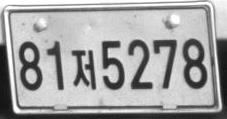1: (44, 40, 69, 90)
2: (127, 38, 153, 91)
5: (100, 39, 125, 91)
7: (153, 38, 178, 89)
8: (182, 37, 208, 90), (17, 40, 43, 91)
저: (71, 48, 97, 91)
